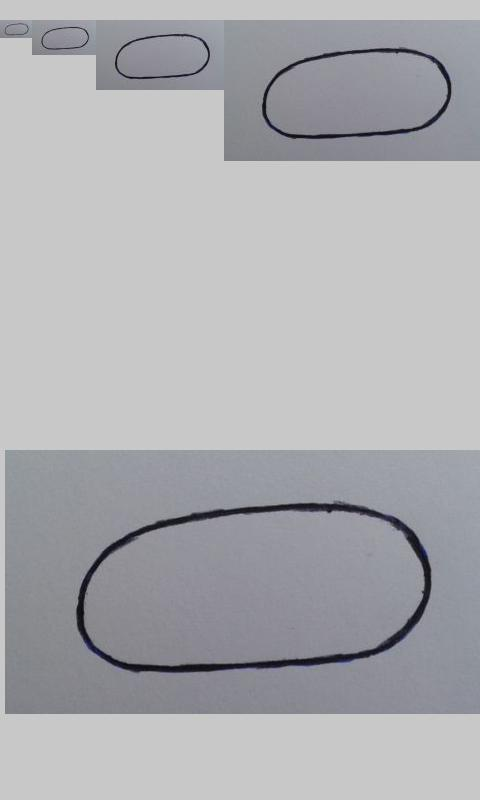chip: (77, 501, 433, 673), (261, 47, 452, 140), (114, 34, 211, 79), (41, 27, 90, 50), (4, 22, 29, 36)
